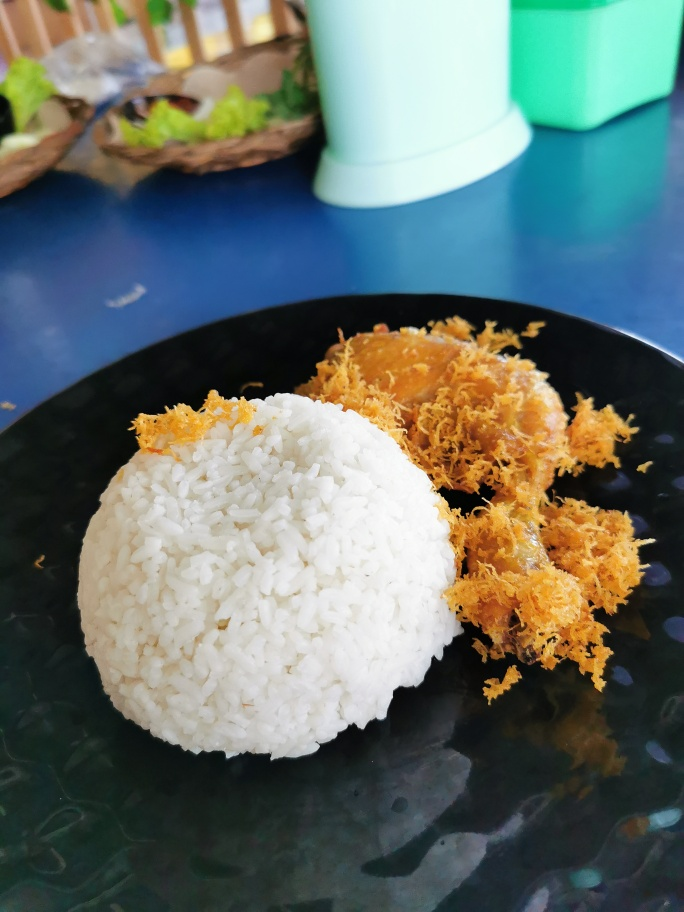ayam goreng: (333, 297, 621, 667)
nasi putih: (63, 383, 461, 774)
